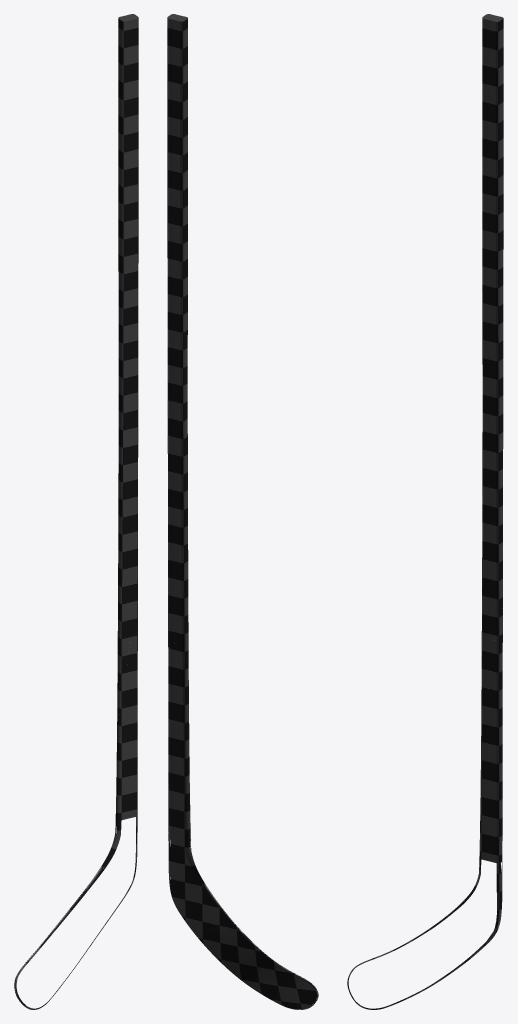
File: P92M-SBT.glb
3 views of the same model, side by side, from view 1: azimuth 30°, elevation 25°; view 2: azimuth 150°, elevation 25°; view 3: azimuth 330°, elevation 25° (orthographic). The views are drawn at different scales.
Parts seen in each view (by area): view 1: geometry_0; view 2: geometry_0; view 3: geometry_0.
Boxes of the visible parts, <box> form: geometry_0: <box>14,14,138,1009</box>; geometry_0: <box>167,14,318,1009</box>; geometry_0: <box>347,14,503,1009</box>.
Size of the model in its own units: 241 by 1650 by 56.15.
Materials: 1 (1 with a texture image).
